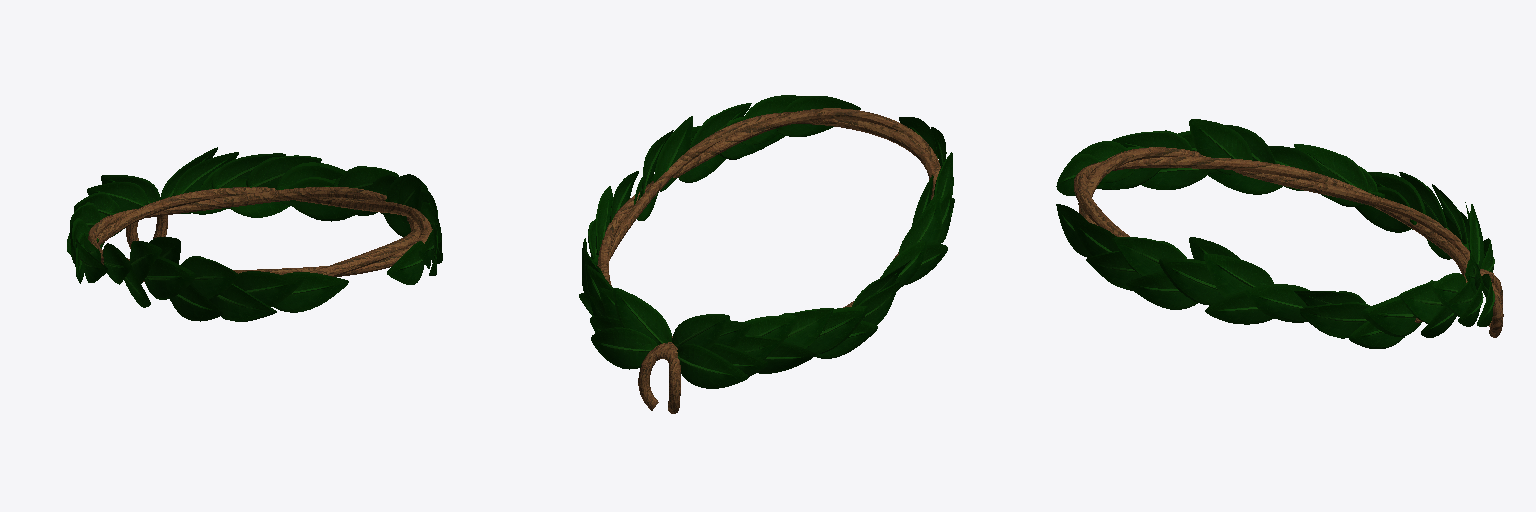
The picture shows the model from 3 angles: view 1: azimuth 30°, elevation 25°; view 2: azimuth 150°, elevation 25°; view 3: azimuth 270°, elevation 25°; orthographic projection.
Visible parts, largest first — view 1: leaves, crown; view 2: leaves, crown; view 3: leaves, crown.
Part boxes in pixels (bbox=[...]): leaves: bbox=[67, 147, 442, 321]; crown: bbox=[88, 187, 432, 281]; leaves: bbox=[579, 95, 954, 388]; crown: bbox=[597, 108, 940, 413]; leaves: bbox=[1056, 119, 1494, 348]; crown: bbox=[1074, 147, 1503, 337].
Size of the model in its own units: 0.7595 by 0.3752 by 0.9747.
Materials: 2 (2 with a texture image).